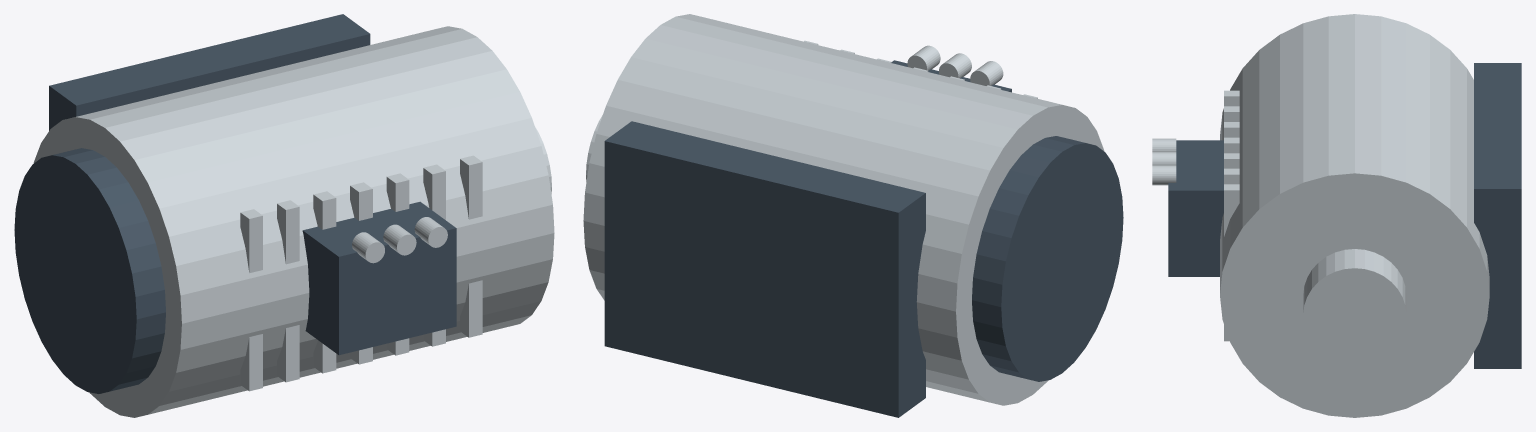
File: motor_1ph.glb
The picture shows the model from 3 angles, left to right: view 1: azimuth 30°, elevation 25°; view 2: azimuth 150°, elevation 25°; view 3: azimuth 270°, elevation 25°; orthographic projection. The views are drawn at different scales.
Visible parts, largest first — view 1: motor_1ph_0, motor_1ph_2, motor_1ph_11, motor_1ph_10, motor_1ph_4, motor_1ph_9, motor_1ph_3, motor_1ph_5, motor_1ph_8, motor_1ph_7, motor_1ph_6, motor_1ph_13 (+2 smaller); view 2: motor_1ph_10, motor_1ph_0, motor_1ph_2, motor_1ph_12, motor_1ph_13, motor_1ph_14; view 3: motor_1ph_0, motor_1ph_10, motor_1ph_1, motor_1ph_11, motor_1ph_9, motor_1ph_14, motor_1ph_13, motor_1ph_12.
Boxes of the visible parts, x1,y1,x2,y2 form: motor_1ph_0: (33,26,554,417); motor_1ph_2: (14,148,165,393); motor_1ph_11: (302,201,456,355); motor_1ph_10: (49,14,370,130); motor_1ph_4: (277,200,299,382); motor_1ph_9: (460,155,482,337); motor_1ph_3: (240,209,262,391); motor_1ph_5: (313,191,336,373); motor_1ph_8: (423,164,445,346); motor_1ph_7: (386,173,409,355); motor_1ph_6: (350,182,372,364); motor_1ph_13: (383,224,416,255); motor_1ph_10: (604,121,925,417); motor_1ph_0: (583,14,1104,405); motor_1ph_2: (972,136,1123,381); motor_1ph_12: (970,61,1003,85); motor_1ph_13: (938,53,971,78); motor_1ph_14: (907,45,940,70); motor_1ph_0: (1220,14,1489,417); motor_1ph_10: (1474,63,1521,368); motor_1ph_1: (1303,249,1406,361); motor_1ph_11: (1168,140,1223,276); motor_1ph_9: (1224,184,1239,341); motor_1ph_14: (1152,165,1176,185); motor_1ph_13: (1152,152,1176,165); motor_1ph_12: (1152,138,1176,151).
Bounding box in the file's own units: 1.14 × 0.68 × 0.93.
